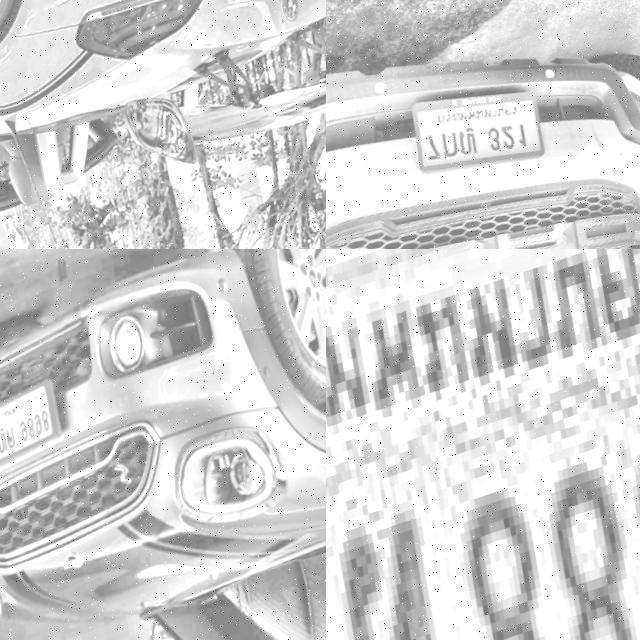license-plate: (326, 249, 640, 640), (406, 63, 562, 199), (0, 374, 72, 469)
